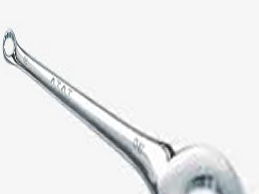Wrench: (1, 23, 259, 194)
